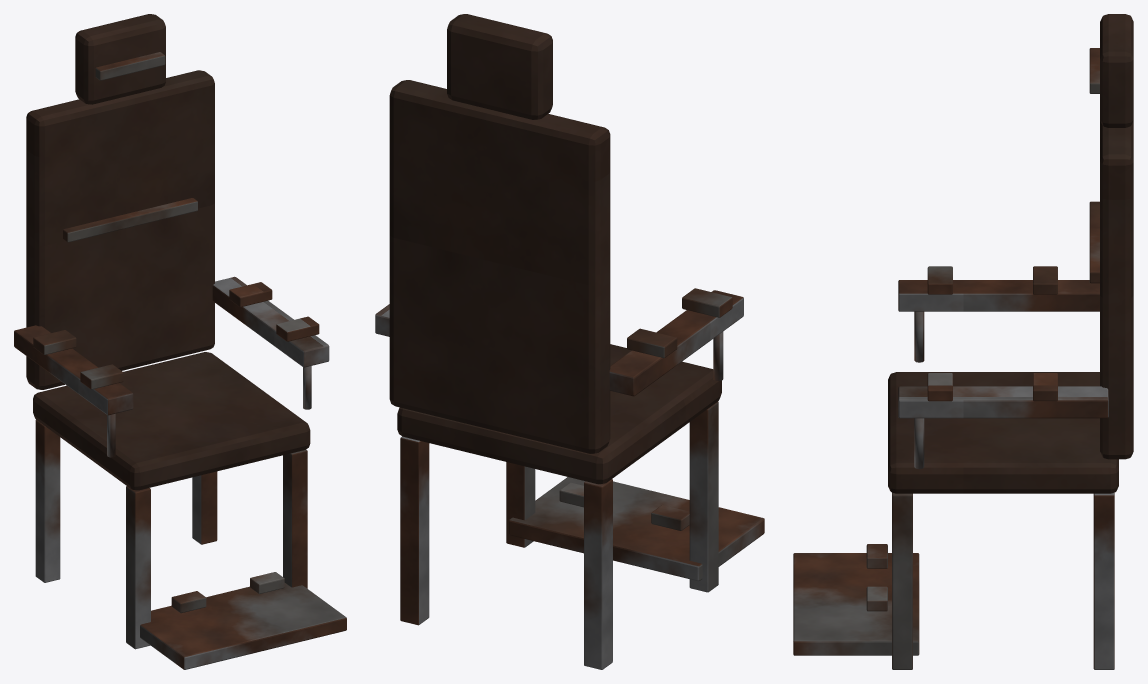
File: Y05_restraint_chair.glb
3 views of the same model, side by side, from view 1: azimuth 30°, elevation 25°; view 2: azimuth 150°, elevation 25°; view 3: azimuth 270°, elevation 25° (orthographic). The views are drawn at different scales.
Parts seen in each view (by area): view 1: Y05_restraint_chair; view 2: Y05_restraint_chair; view 3: Y05_restraint_chair.
Part boxes in pixels (<box>): Y05_restraint_chair: <box>14,14,346,669</box>; Y05_restraint_chair: <box>375,14,764,669</box>; Y05_restraint_chair: <box>793,14,1133,669</box>.
Bounding box in the file's own units: 0.5419 × 1.2 × 0.6271.
Materials: 3 (3 with a texture image).
